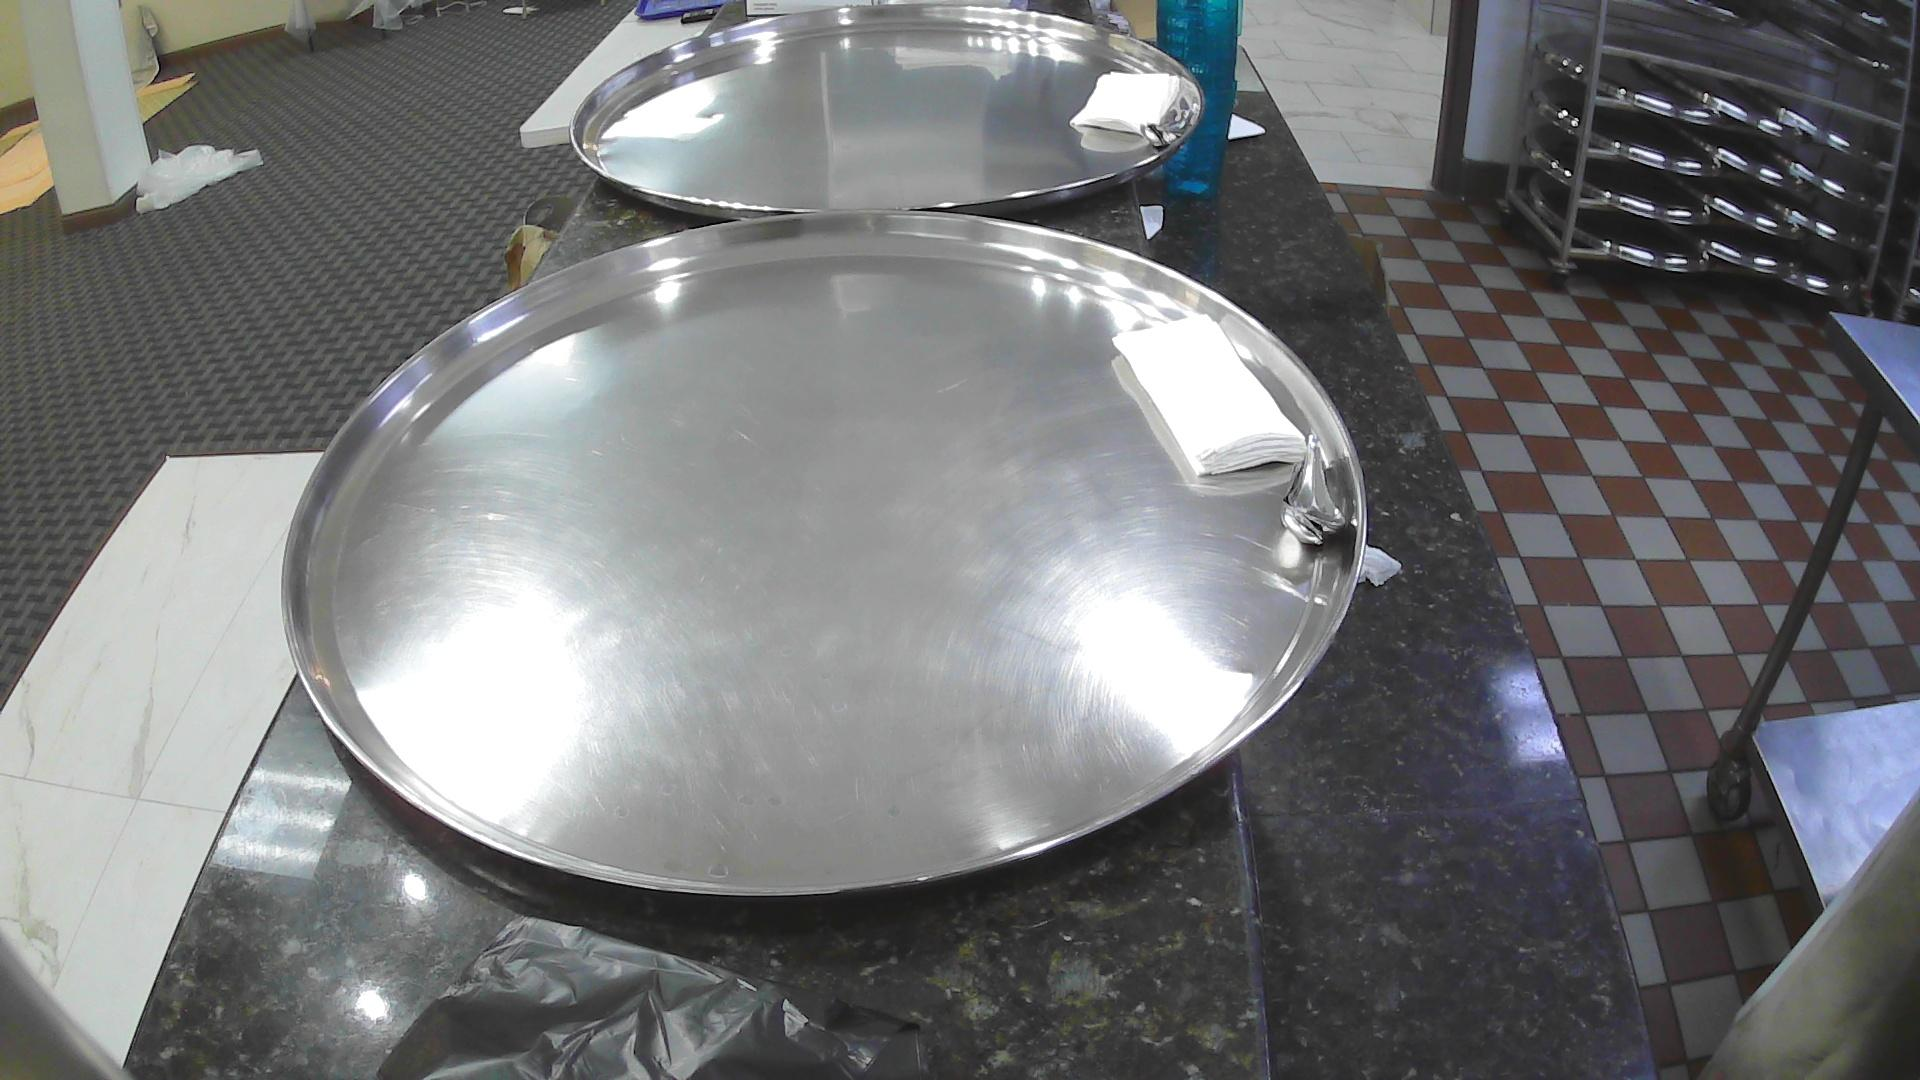thaal: (276, 208, 1373, 919), (568, 0, 1207, 219)
